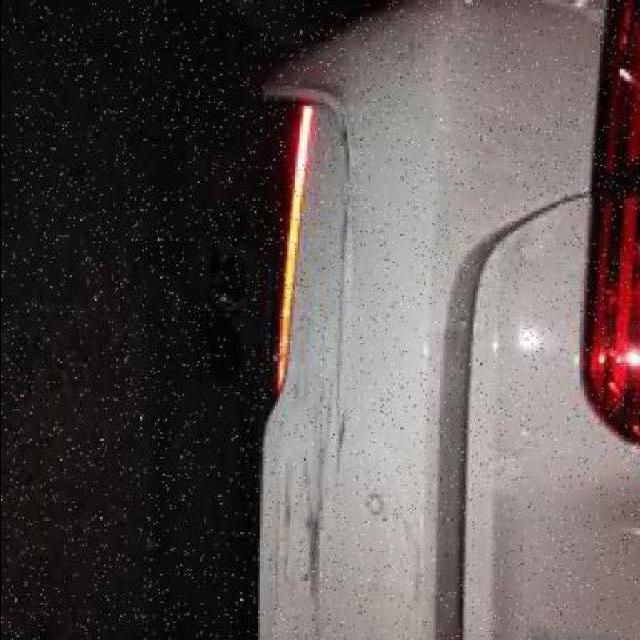rear-bumper-dent: (180, 6, 603, 636)
